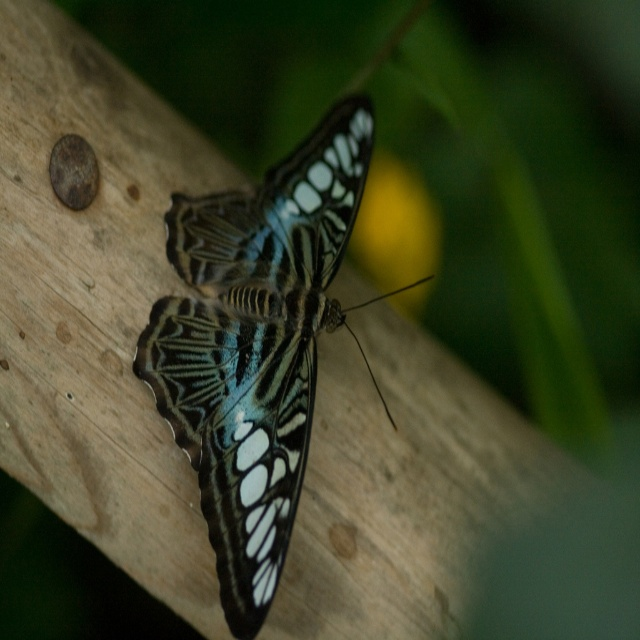Butterfly: (132, 86, 437, 637)
